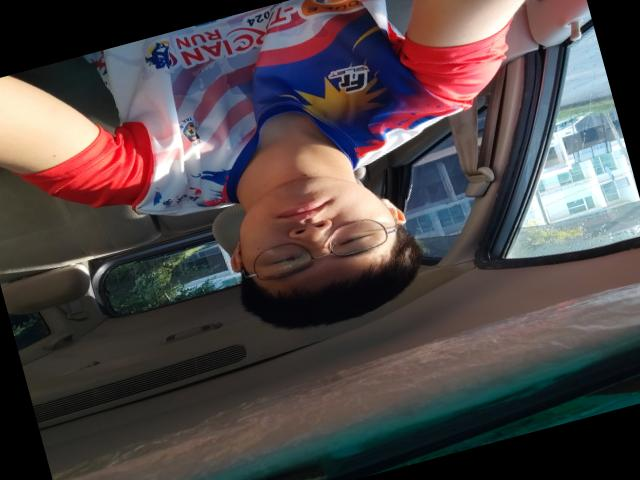eye_closed: (260, 248, 308, 272), (336, 226, 382, 251)
face: (225, 156, 407, 304)
